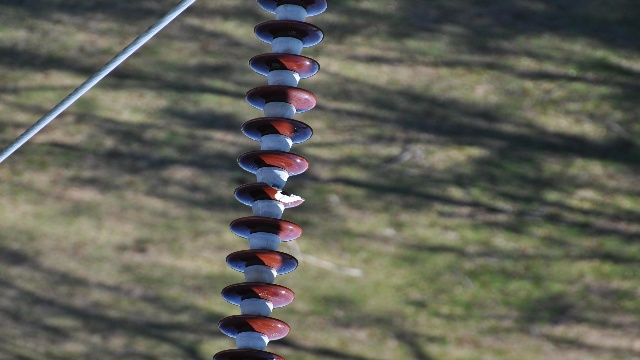broken_local: (258, 178, 307, 207)
insulator_unspecified: (212, 1, 328, 357)
